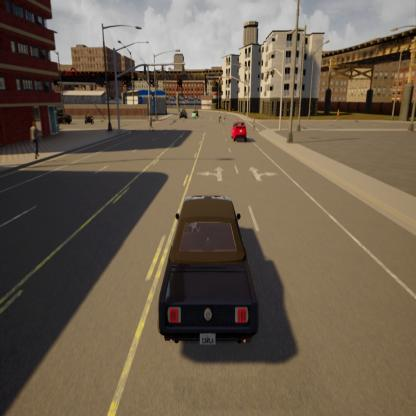Cars: (157, 193, 260, 354), (232, 118, 248, 148)
Pedestrian: (29, 118, 40, 163), (148, 109, 154, 135)
